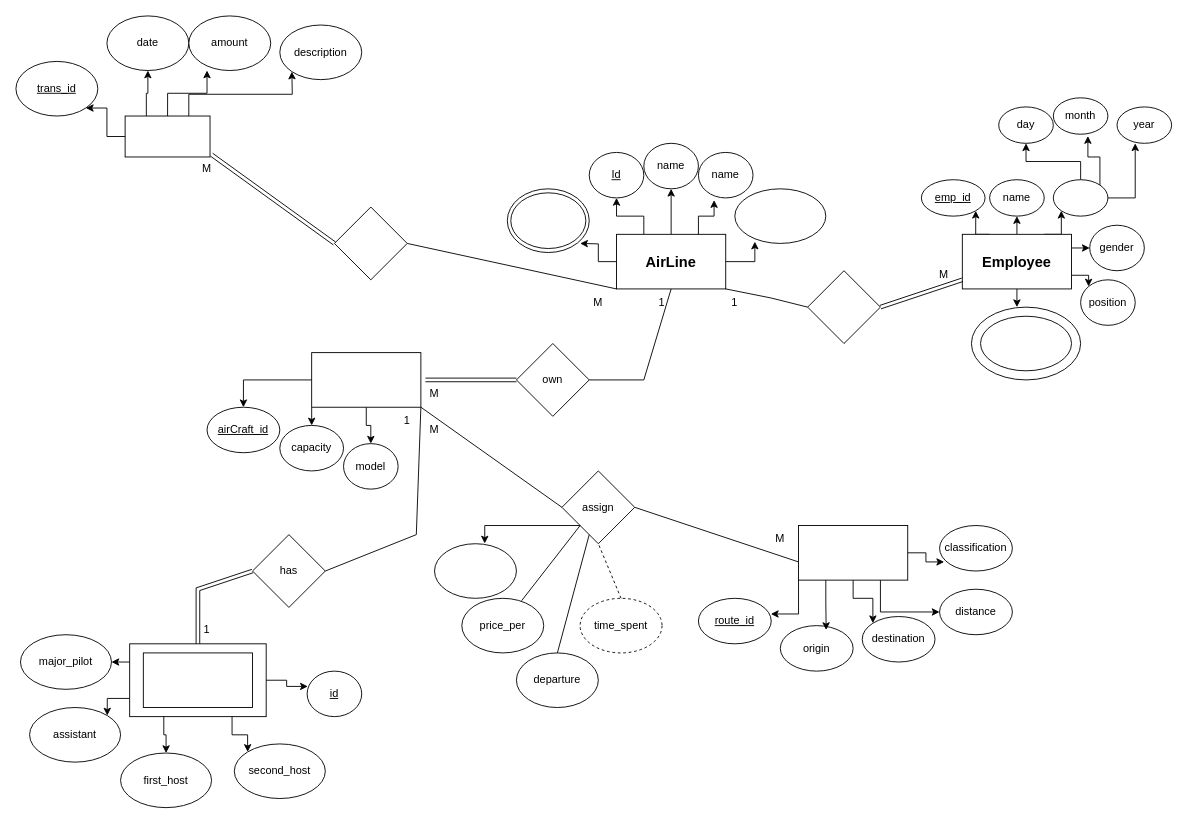
Some shapes in this 1188 by 824 pixel diagram are drawn without their labels. The centre of each missing label's shape, as x and y in pixels:
"AirCraft" belongs at point (366, 379).
"birthdate" belongs at point (1080, 197).
"Contact_person" belongs at point (780, 215).
"Crew" belongs at point (197, 680).
"Keeps" belongs at point (370, 243).
"npassengers" belongs at point (475, 570).
"qualification" belongs at point (1026, 343).
"Route" belongs at point (853, 552).
"Telephones" belongs at point (548, 220).
"Transaction" belongs at point (167, 136).
"work" belongs at point (843, 307).
